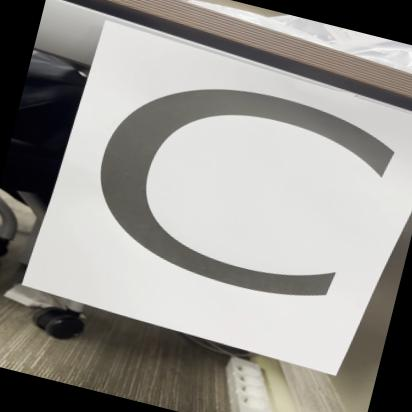seat: (40, 22, 412, 385)
